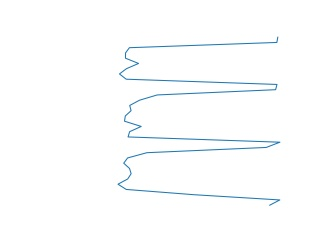majorRiverChannelBar: (115, 37, 285, 208)
